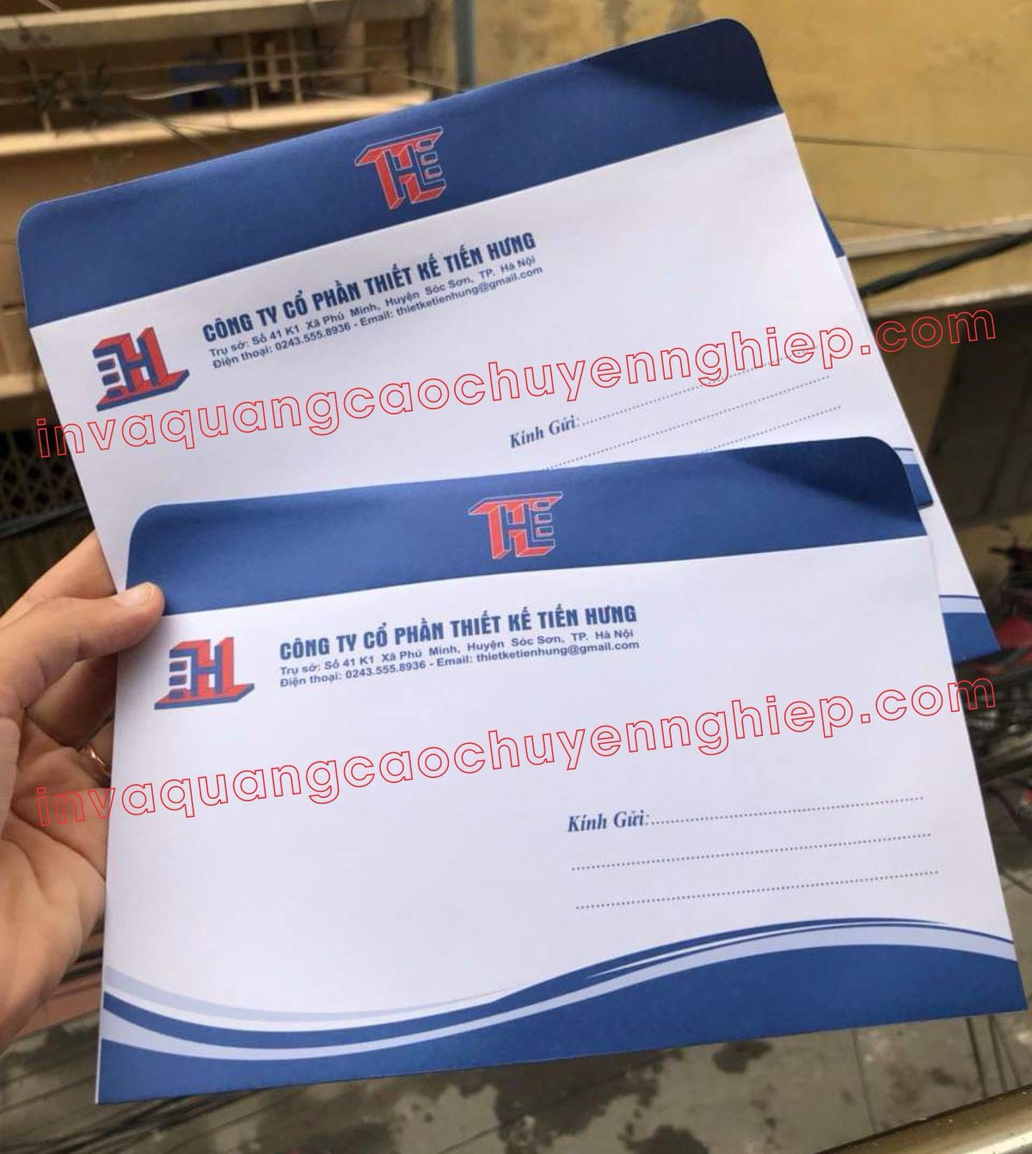paper: (18, 17, 1028, 1114)
